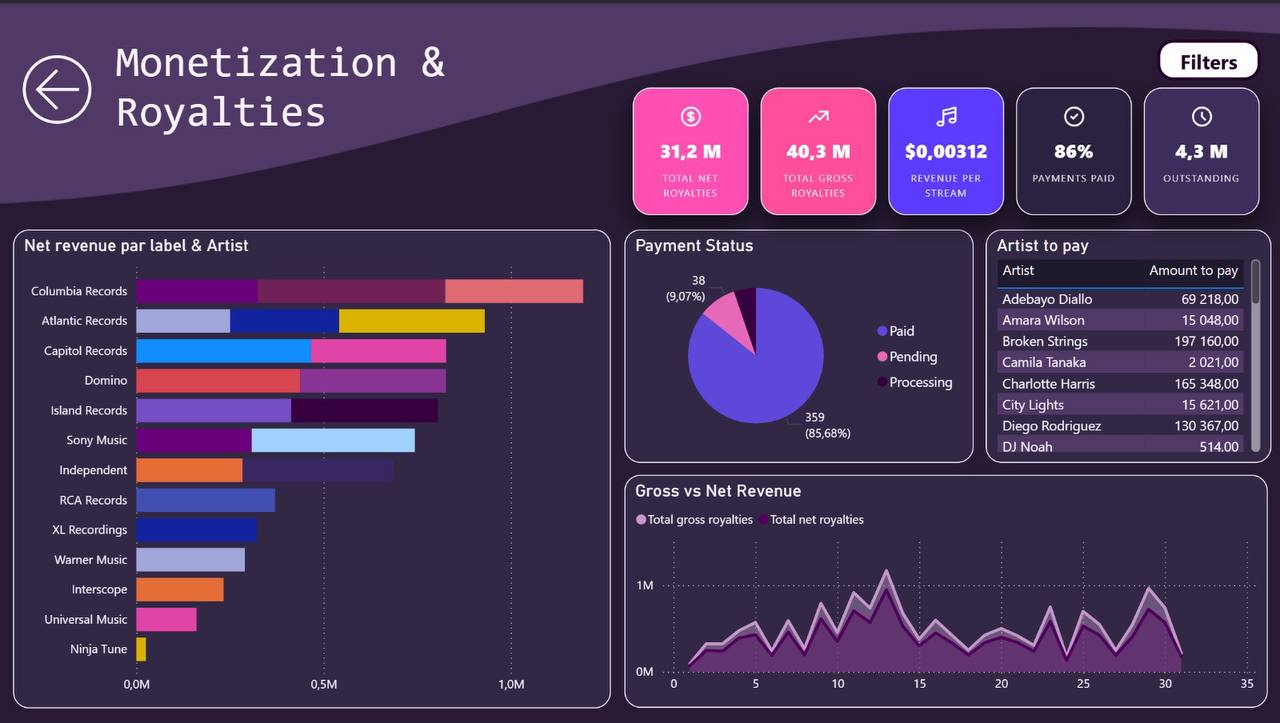

Layout of this report page (visuals, bound fields, positions):
{"tool":"powerbi","page":{"name":"Monetization & Royalties","canvas":[1280,720],"ordinal":4},"visuals":[{"type":"pieChart","title":"Payment Status","fields":{"Category":["royalty_payments.payment_status"],"Y":["CountNonNull(royalty_payments.payment_id)"]},"box":[624.9,226.2,348.5,232.9],"z":0},{"type":"barChart","title":"Net revenue par label & Artist","fields":{"Category":["Artists.label"],"Y":["_Measures.Net revenue"],"Series":["Artists.artist_name"]},"box":[14.3,225.5,596.5,478],"z":1000},{"type":"tableEx","title":"Artist to pay","fields":{"Values":["Artists.artist_name","_Measures.Total net royalties"]},"box":[985.1,226.2,284.8,232.9],"z":2000},{"type":"textbox","box":[112.5,28.8,423.8,113.8],"z":3000},{"type":"htmlContent443BE3AD55E043BF878BED274D3A6865","fields":{"content":["_Measures.Monetization KPI Cards"]},"box":[610.7,58.5,669.3,185.5],"z":4000},{"type":"areaChart","title":"Gross vs Net Revenue ","fields":{"Y":["_Measures.Total gross royalties","_Measures.Total net royalties"],"Category":["Date.Date.Variation.Hiérarchie de dates.Trimestre","Date.Date.Variation.Hiérarchie de dates.Mois","Date.Date.Variation.Hiérarchie de dates.Jour"]},"box":[625,470.9,642.1,232.6],"z":5000},{"type":"actionButton","box":[15.7,42.8,99.9,85.6],"z":6000},{"type":"actionButton","box":[1156,36.8,103.1,40.5],"z":7001}]}

Visuals, with their boxes in screenshot pixels (x1, y1, x2, y2), scaled from the page's 1280x720 canvas onto the 1280x723 screenshot:
"Payment Status" pieChart: 625,227,973,461
"Net revenue par label & Artist" barChart: 14,226,611,706
"Artist to pay" tableEx: 985,227,1270,461
textbox: 112,29,536,143
htmlContent443BE3AD55E043BF878BED274D3A6865 - _Measures.Monetization KPI Cards: 611,59,1279,245
"Gross vs Net Revenue " areaChart: 625,473,1267,706
actionButton: 16,43,116,129
actionButton: 1156,37,1259,78
